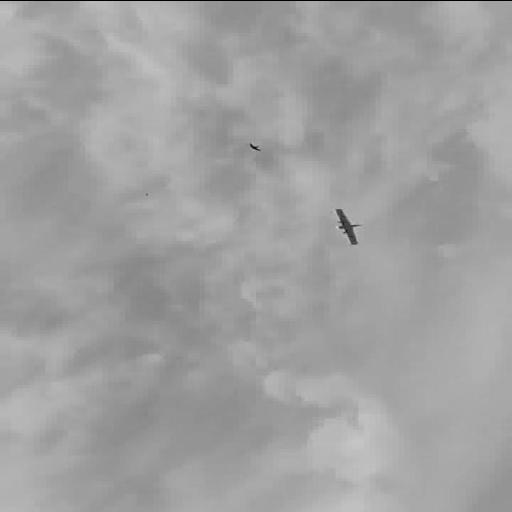uav: (328, 206, 370, 247)
